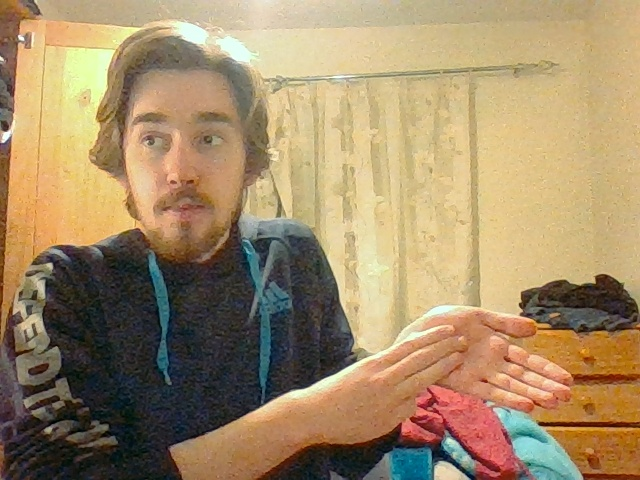mother: (378, 305, 574, 415)
